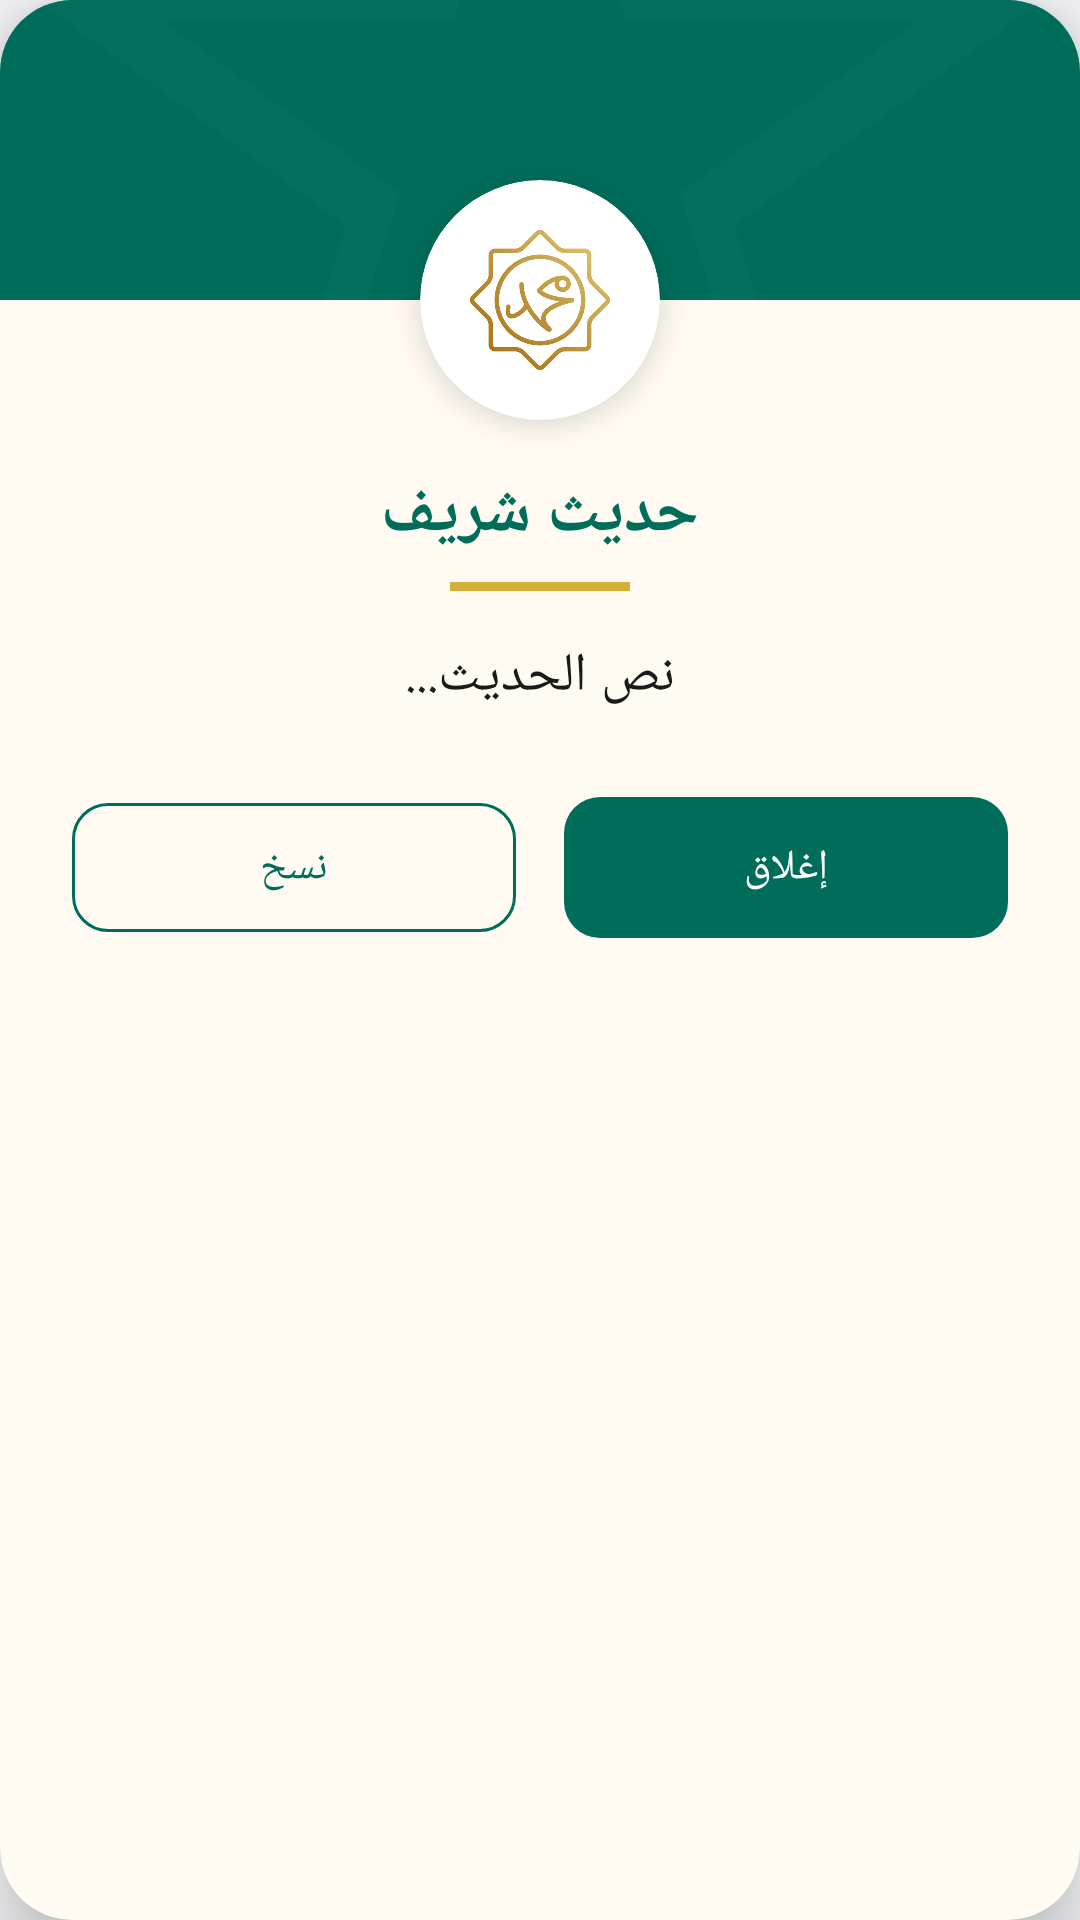

Named icons in this screenshot (1080w x 1920h) and their centers, (x,y):
prophet: (540,300)
